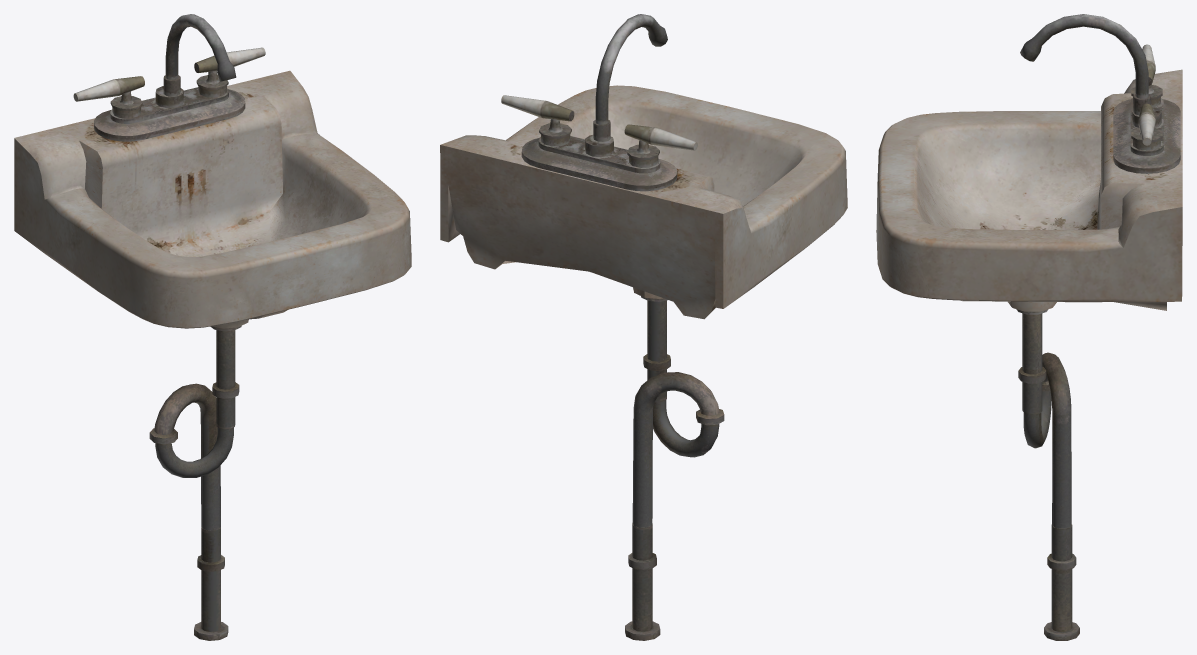
The model's file is 089_WashStand.fbx.
3 views of the same model, side by side, from view 1: azimuth 30°, elevation 25°; view 2: azimuth 150°, elevation 25°; view 3: azimuth 270°, elevation 25° (orthographic). The views are drawn at different scales.
Visible parts, largest first — view 1: LOD_1_Group_0_Sub_1__sm30_089_WashStand01A_A_Mat; view 2: LOD_1_Group_0_Sub_1__sm30_089_WashStand01A_A_Mat; view 3: LOD_1_Group_0_Sub_1__sm30_089_WashStand01A_A_Mat.
Boxes of the visible parts, box(x1,y1,x2,y2) form: LOD_1_Group_0_Sub_1__sm30_089_WashStand01A_A_Mat: box(14, 14, 411, 640); LOD_1_Group_0_Sub_1__sm30_089_WashStand01A_A_Mat: box(440, 14, 847, 640); LOD_1_Group_0_Sub_1__sm30_089_WashStand01A_A_Mat: box(876, 14, 1182, 640).
Bounding box in the file's own units: 0.6554 × 1.37 × 0.6119.
